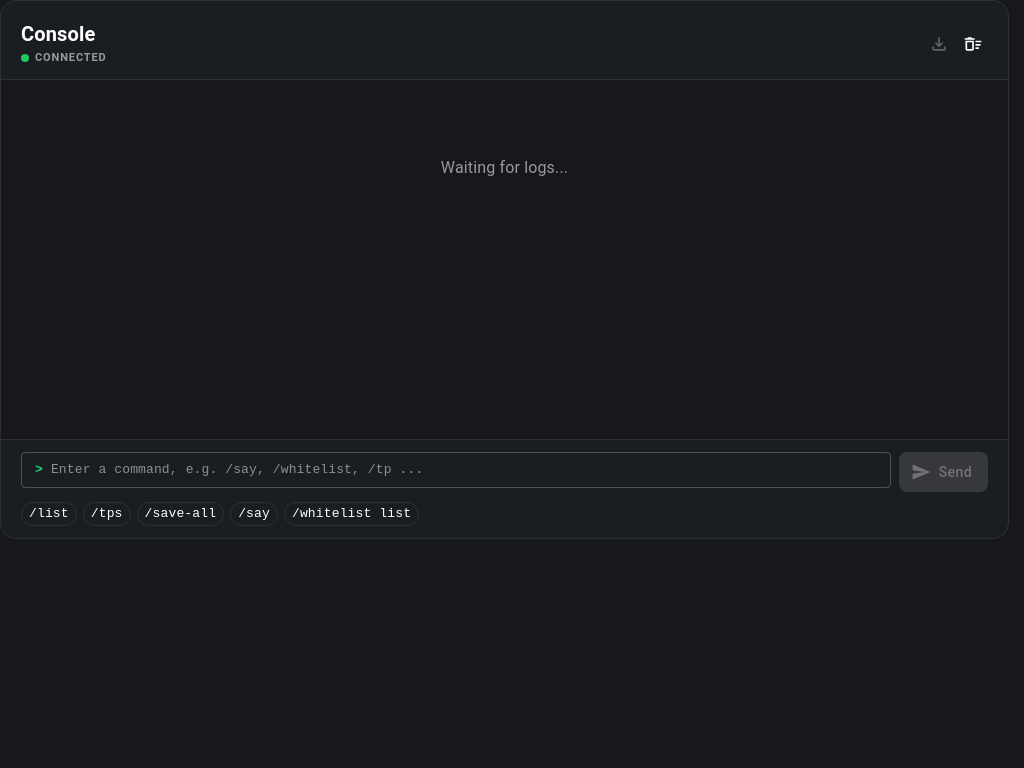
Test: OverviewConsole › fills the input from a quick command chip without running it
The width and height of the screenshot is (1024, 768).
Click the button "/save-all" at coordinates (180, 514), box 137,502 -> 224,526
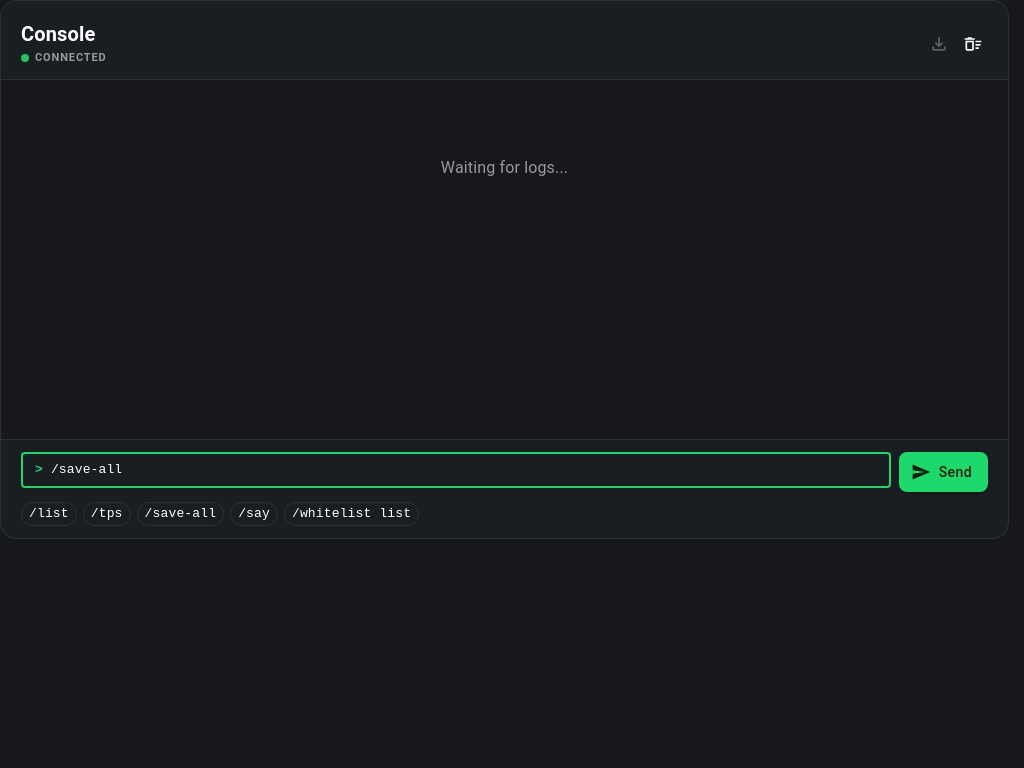
expect the field named "Console command" holds "/save-all": met, box 51,452 -> 891,488
